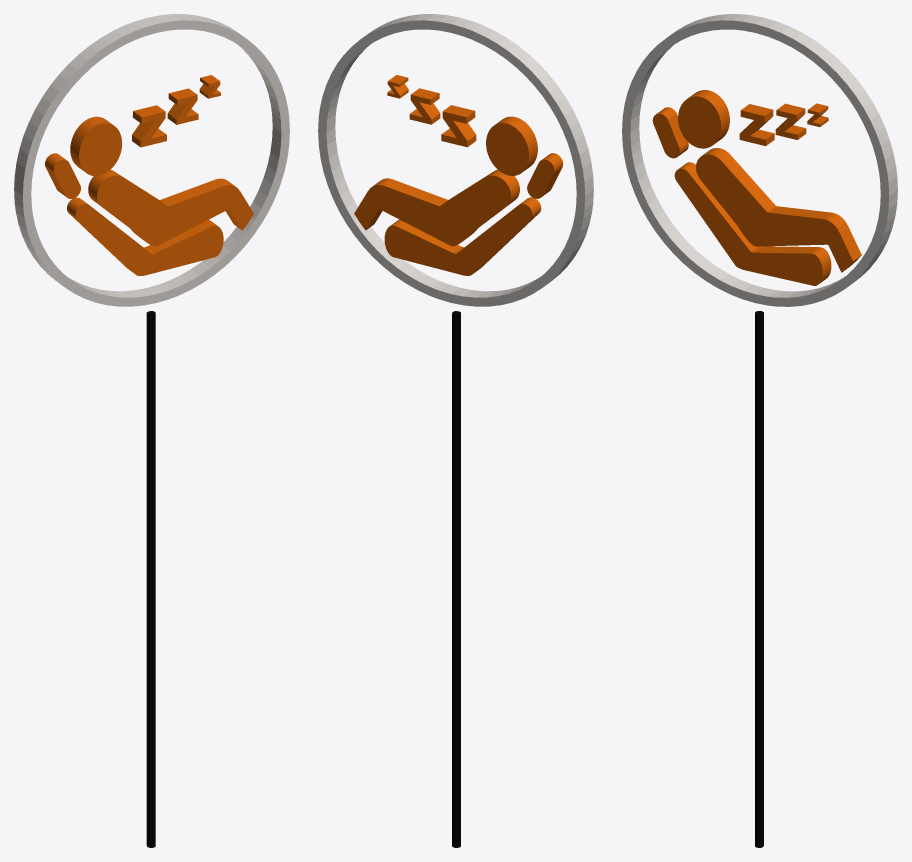
The model's file is sleepIcon.fbx.
The picture shows the model from 3 angles, left to right: view 1: azimuth 30°, elevation 25°; view 2: azimuth 150°, elevation 25°; view 3: azimuth 330°, elevation 25°; orthographic projection.
Parts seen in each view (by area): view 1: icon, cercle, Cylinder; view 2: icon, cercle, Cylinder; view 3: icon, cercle, Cylinder.
Boxes of the visible parts, x1,y1,x2,y2 form: icon: (45,75,253,275); cercle: (14,14,289,306); Cylinder: (146,311,155,847); icon: (354,75,562,275); cercle: (318,14,593,306); Cylinder: (452,311,460,847); icon: (652,90,861,285); cercle: (622,14,897,306); Cylinder: (755,311,763,847).
Bounding box in the file's own units: 1754 × 5178 × 101.
